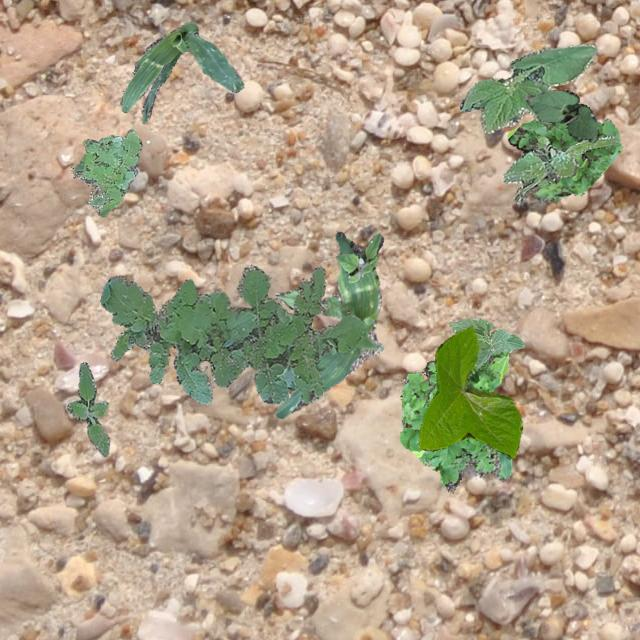crop: (274, 230, 382, 418), (418, 327, 522, 458), (119, 21, 242, 122), (458, 42, 596, 132), (524, 88, 598, 142), (448, 318, 524, 366), (273, 288, 341, 318)
weed: (99, 264, 368, 404), (398, 329, 512, 488), (506, 118, 622, 202), (502, 134, 616, 203), (72, 128, 140, 215), (66, 362, 108, 456), (334, 232, 382, 282)
